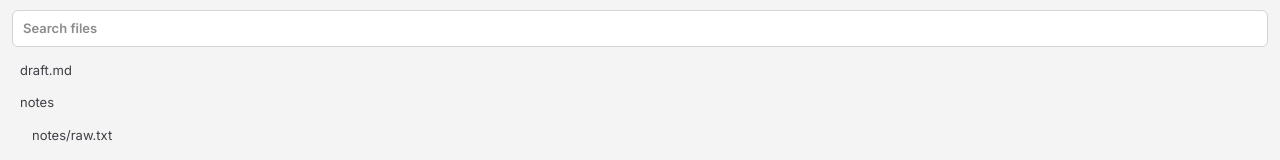
Test case: SessionFilesBar › filters tree with case-insensitive search
expect the button "draft.md" is shown: met, box [12,55,1268,85]
Type "RAW" into the search field labelled "Search files" at {"x": 640, "y": 28}, box [12,10,1268,47]
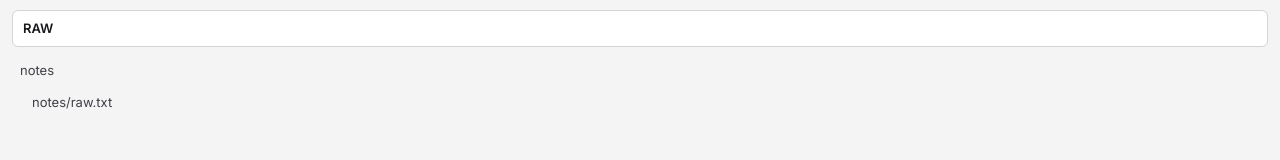
expect the button "notes/raw.txt" is shown: met, box [12,87,1268,118]
expect the button "draft.md" is gone: met
